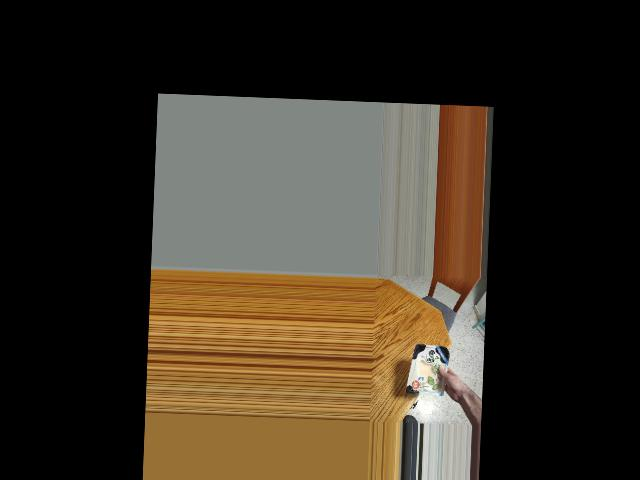cheese: (405, 336, 452, 402)
